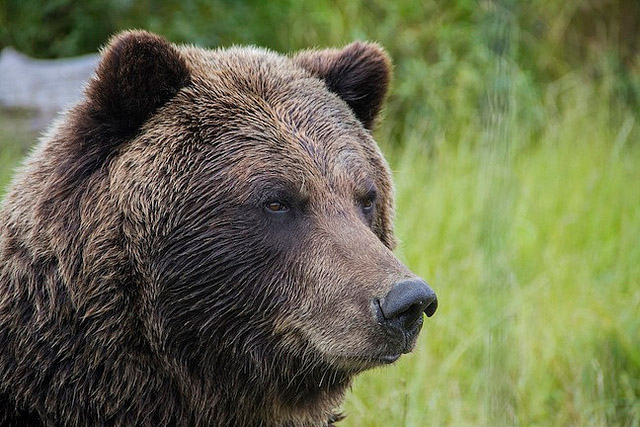bear: (77, 25, 445, 366)
